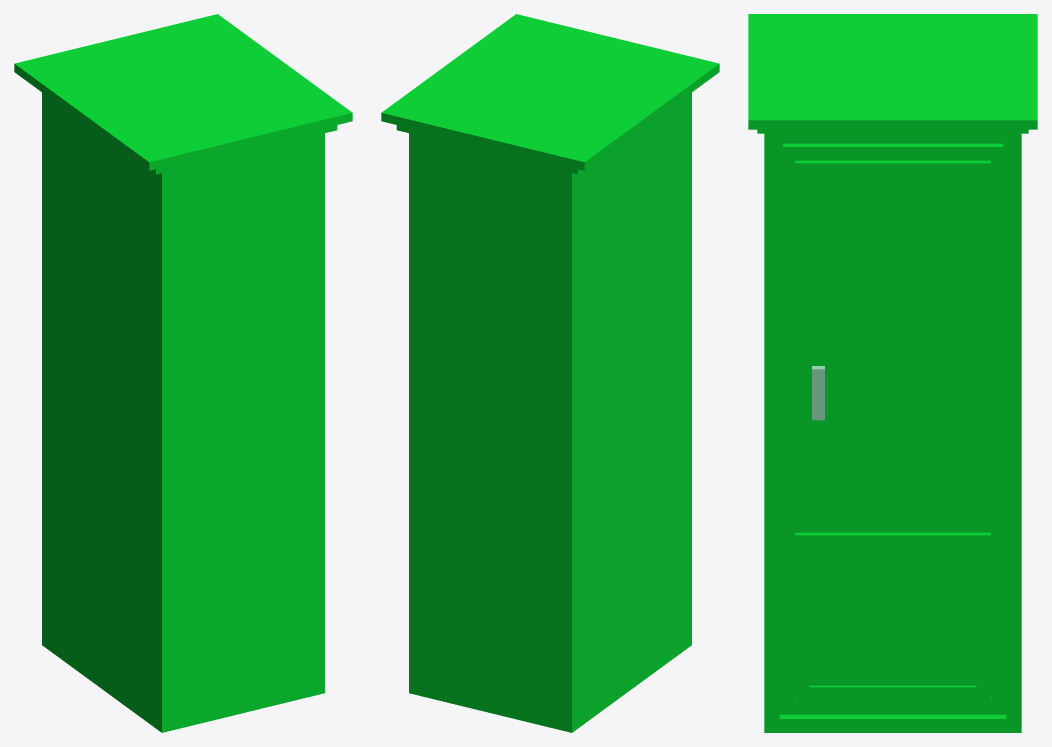
File: armoire.fbx
3 views of the same model, side by side, from view 1: azimuth 30°, elevation 25°; view 2: azimuth 150°, elevation 25°; view 3: azimuth 270°, elevation 25° (orthographic). The views are drawn at different scales.
Parts seen in each view (by area): view 1: pCube14; view 2: pCube14; view 3: pCube14.
Boxes of the visible parts, box(x1,y1,x2,y2) form: pCube14: box(14, 14, 352, 732); pCube14: box(381, 14, 719, 732); pCube14: box(748, 14, 1037, 732).
Size of the model in its own units: 68.01 by 186 by 78.15.
